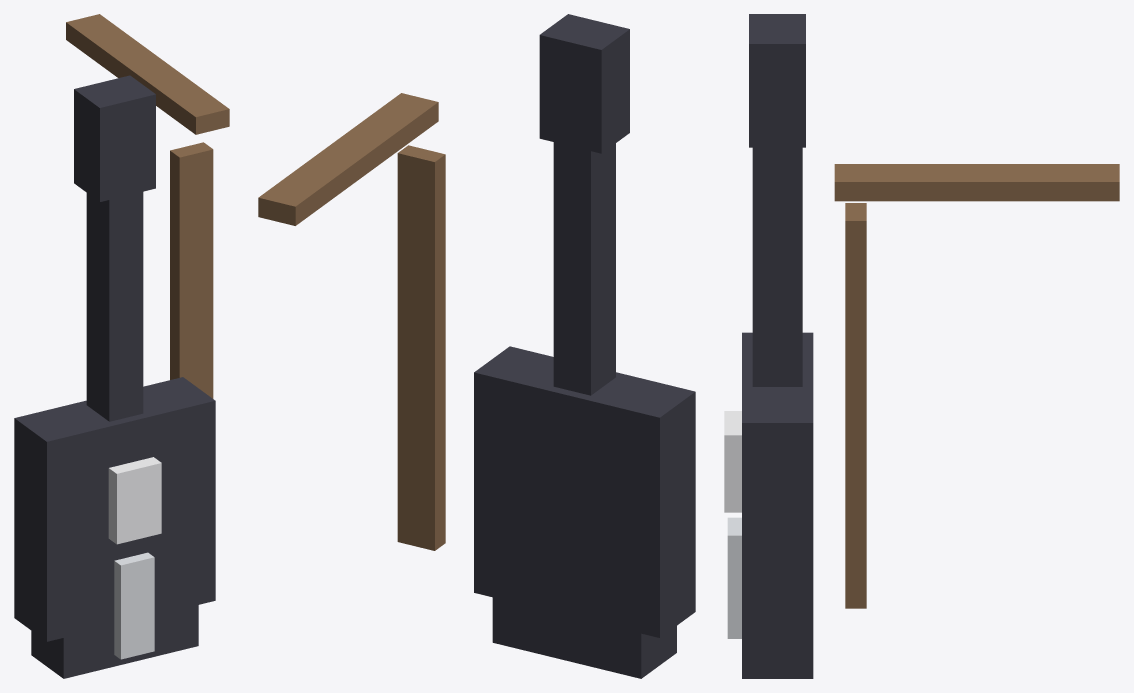
File: guitarra_costas.glb
3 renders of one model, left to right at view 1: azimuth 30°, elevation 25°; view 2: azimuth 150°, elevation 25°; view 3: azimuth 270°, elevation 25°, orthographic. The views are drawn at different scales.
Visible parts, largest first — view 1: guitarra_costas; view 2: guitarra_costas; view 3: guitarra_costas.
Part boxes in pixels (bbox=[...]): guitarra_costas: bbox=[14, 14, 229, 678]; guitarra_costas: bbox=[258, 14, 695, 678]; guitarra_costas: bbox=[724, 14, 1119, 678].
Size of the model in its own units: 0.4 by 0.95 by 0.555.
